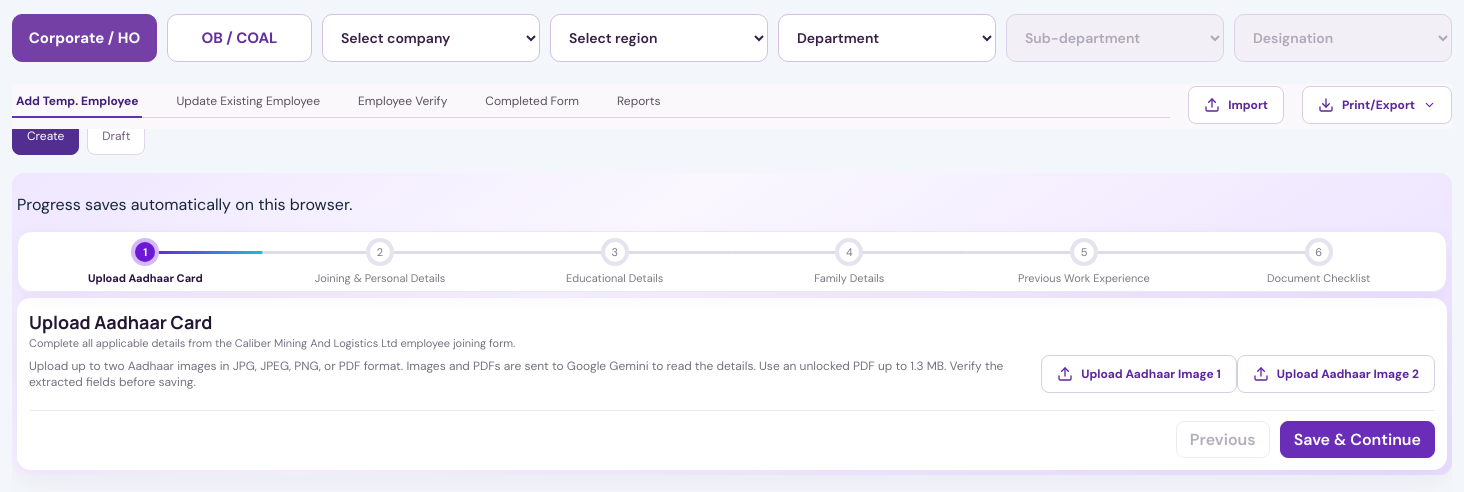
Test: draft list is isolated by signed-in account
The width and height of the screenshot is (1464, 492).
Click the button "Draft": (116, 136) [87,117,145,155]
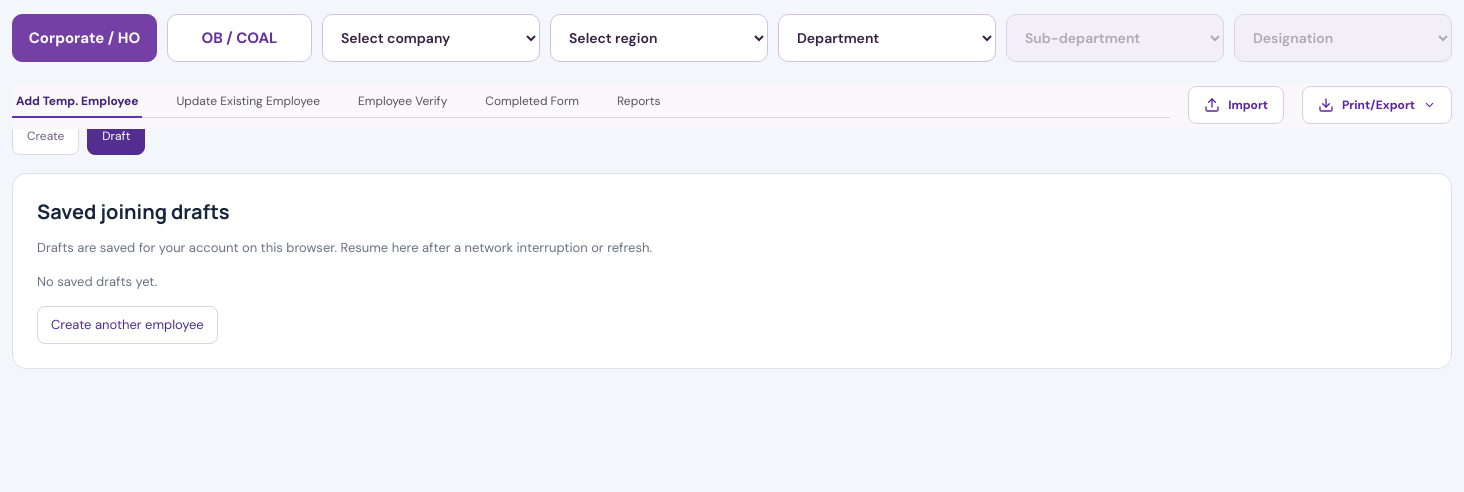
Now the text "No saved drafts yet." is shown, box [37,273,157,290]
